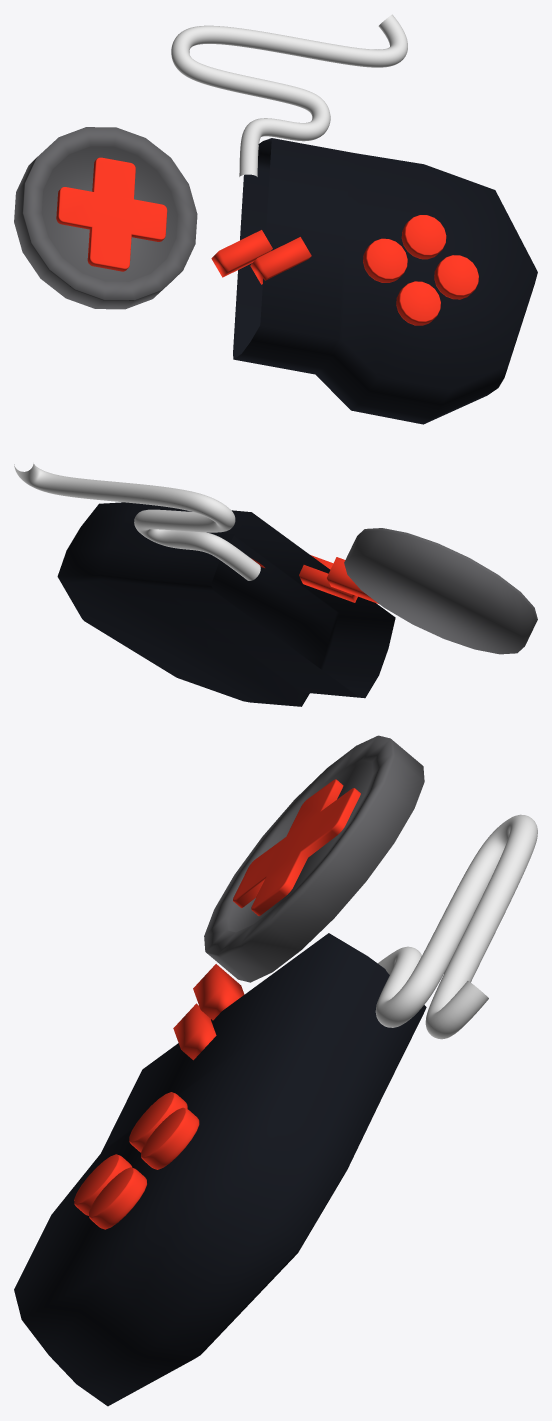
The model's file is 5. Gamepad.glb.
3 renders of one model, top to bottom at view 1: azimuth 30°, elevation 25°; view 2: azimuth 150°, elevation 25°; view 3: azimuth 270°, elevation 25°, orthographic. The views are drawn at different scales.
Parts seen in each view (by area): view 1: Cube.227, Cylinder.041, NurbsPath.026, Cube.226, Cube.224, Cylinder.003, Cylinder.002, Cylinder.005, Cylinder.004; view 2: Cube.227, Cylinder.041, NurbsPath.026, Cube.224; view 3: Cube.227, Cylinder.041, NurbsPath.026, Cube.226, Cube.224, Cylinder.003, Cylinder.005, Cylinder.002, Cylinder.004.
Boxes of the visible parts, left/top/right/bottom form: Cube.227: left=233, top=138, right=537, bottom=424; Cylinder.041: left=14, top=127, right=197, bottom=309; NurbsPath.026: left=171, top=14, right=407, bottom=176; Cube.226: left=56, top=157, right=167, bottom=271; Cube.224: left=211, top=230, right=311, bottom=284; Cylinder.003: left=434, top=255, right=478, bottom=299; Cylinder.002: left=396, top=281, right=440, bottom=325; Cylinder.005: left=401, top=215, right=446, bottom=259; Cylinder.004: left=363, top=238, right=407, bottom=282; Cube.227: left=57, top=502, right=395, bottom=706; Cylinder.041: left=344, top=528, right=537, bottom=654; NurbsPath.026: left=14, top=463, right=260, bottom=580; Cube.224: left=299, top=555, right=378, bottom=603; Cube.227: left=14, top=933, right=426, bottom=1406; Cylinder.041: left=204, top=735, right=424, bottom=982; NurbsPath.026: left=375, top=814, right=537, bottom=1039; Cube.226: left=233, top=779, right=360, bottom=915; Cube.224: left=173, top=964, right=244, bottom=1060; Cylinder.003: left=88, top=1167, right=146, bottom=1229; Cylinder.005: left=141, top=1107, right=199, bottom=1169; Cylinder.002: left=74, top=1154, right=132, bottom=1215; Cylinder.004: left=129, top=1092, right=187, bottom=1152.
Bounding box in the file's own units: 7.61 × 5.08 × 4.98.
